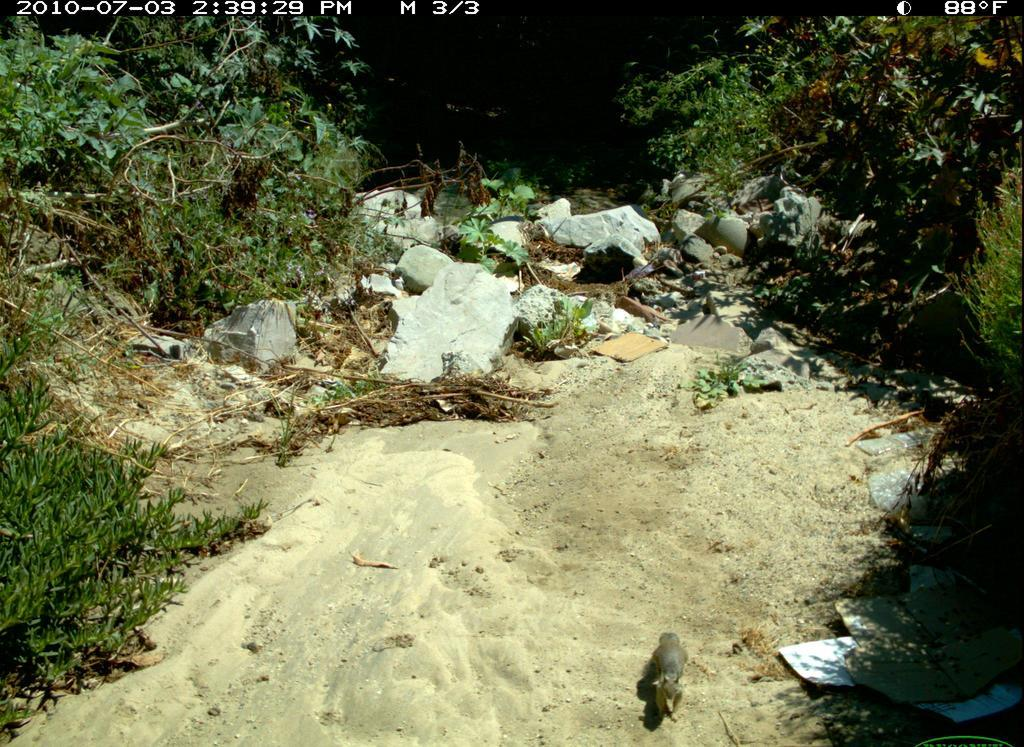squirrel: (643, 623, 693, 728)
